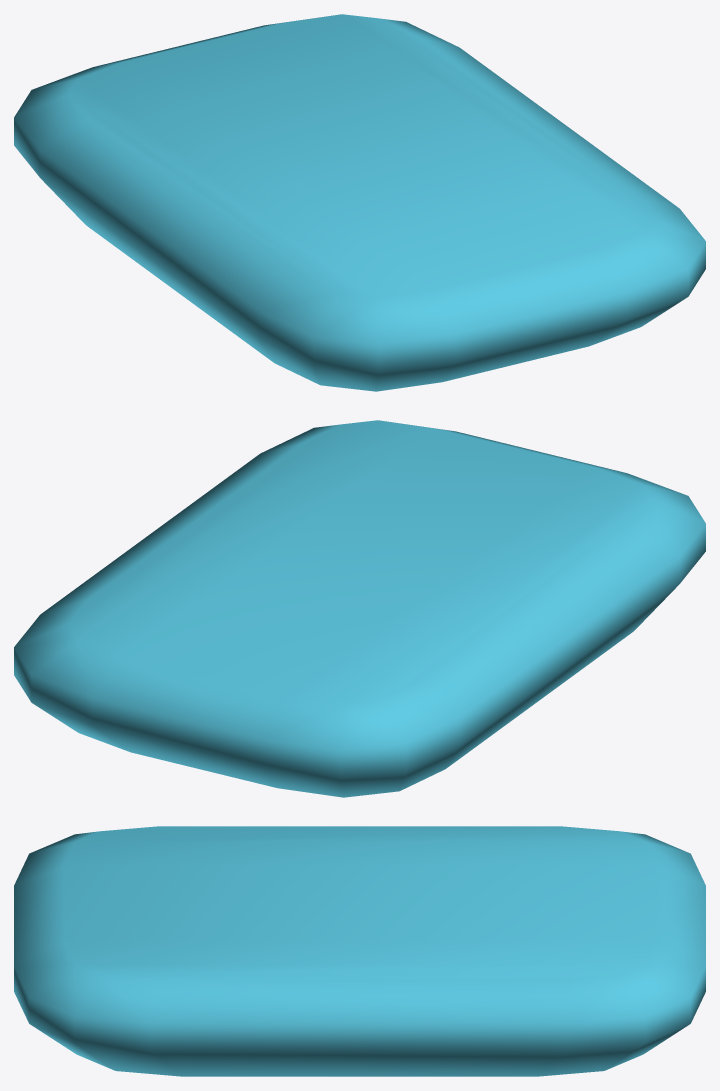
The model's file is R4YL_PROP_platform003.FBX.
3 views of the same model, one above another, from view 1: azimuth 30°, elevation 25°; view 2: azimuth 150°, elevation 25°; view 3: azimuth 270°, elevation 25° (orthographic). The views are drawn at different scales.
Visible parts, largest first — view 1: R4YL_PROP_platform003; view 2: R4YL_PROP_platform003; view 3: R4YL_PROP_platform003.
Part boxes in pixels (x1,y1,x2,y2): R4YL_PROP_platform003: (14,14,705,391); R4YL_PROP_platform003: (14,420,705,797); R4YL_PROP_platform003: (14,826,705,1076).
Bounding box in the file's own units: 39.37 × 9.74 × 59.06.
